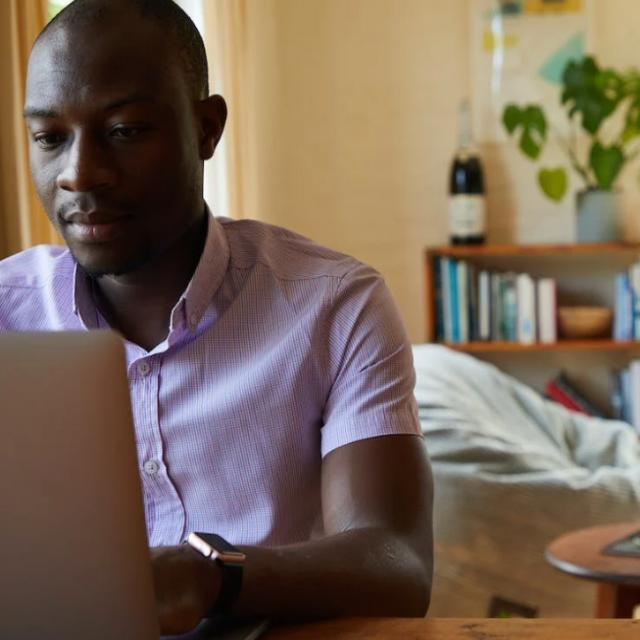Watch: (187, 524, 250, 630)
